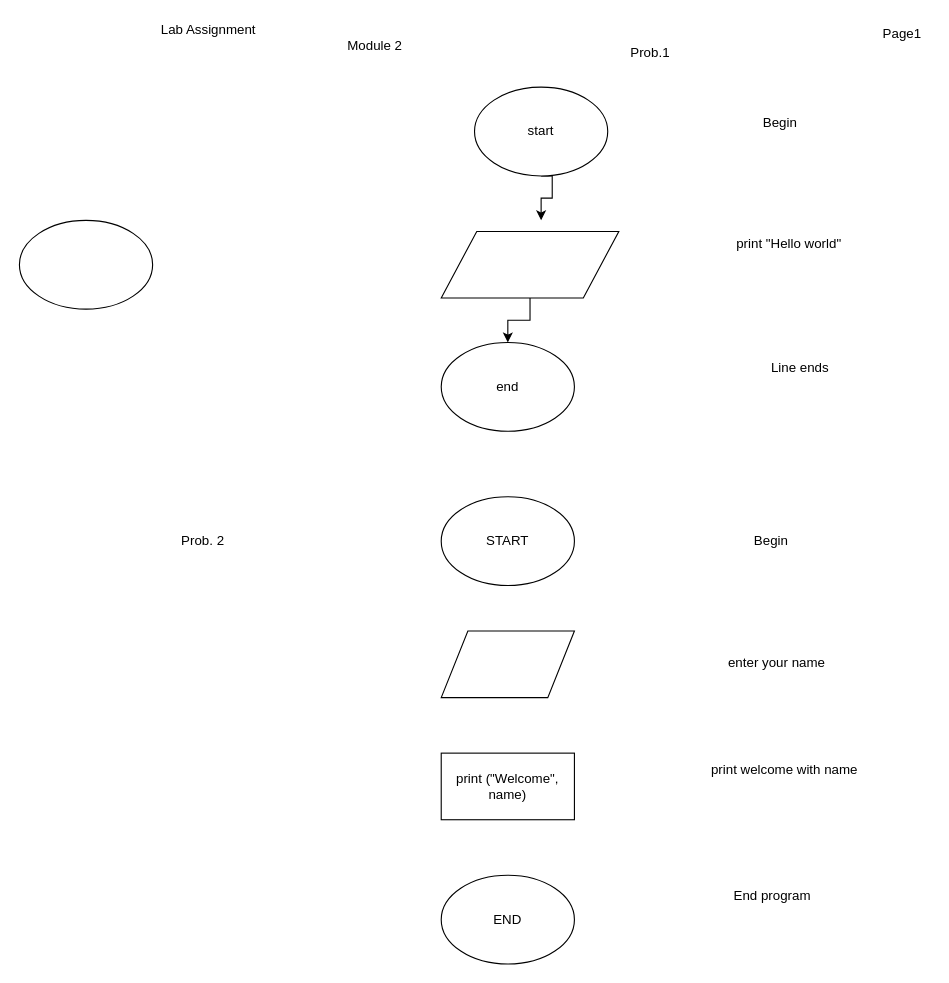
Image size: 949x983. Some labels were removed from this diagram. Each missing label, with the box of its shape:
name = input 'enter your name:': (440, 630, 574, 698)
print = ("Hello World"): (440, 230, 619, 298)
